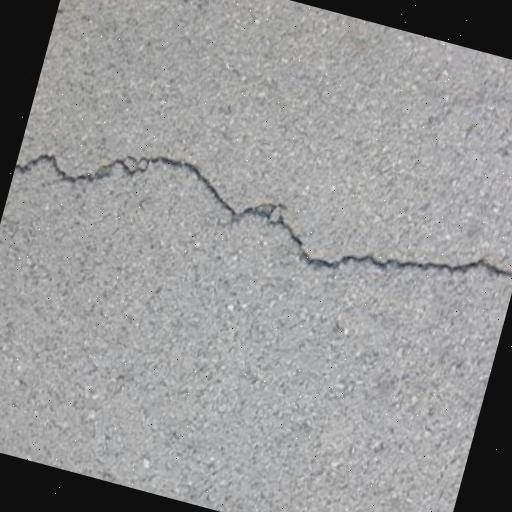spalling: (16, 132, 512, 300)
